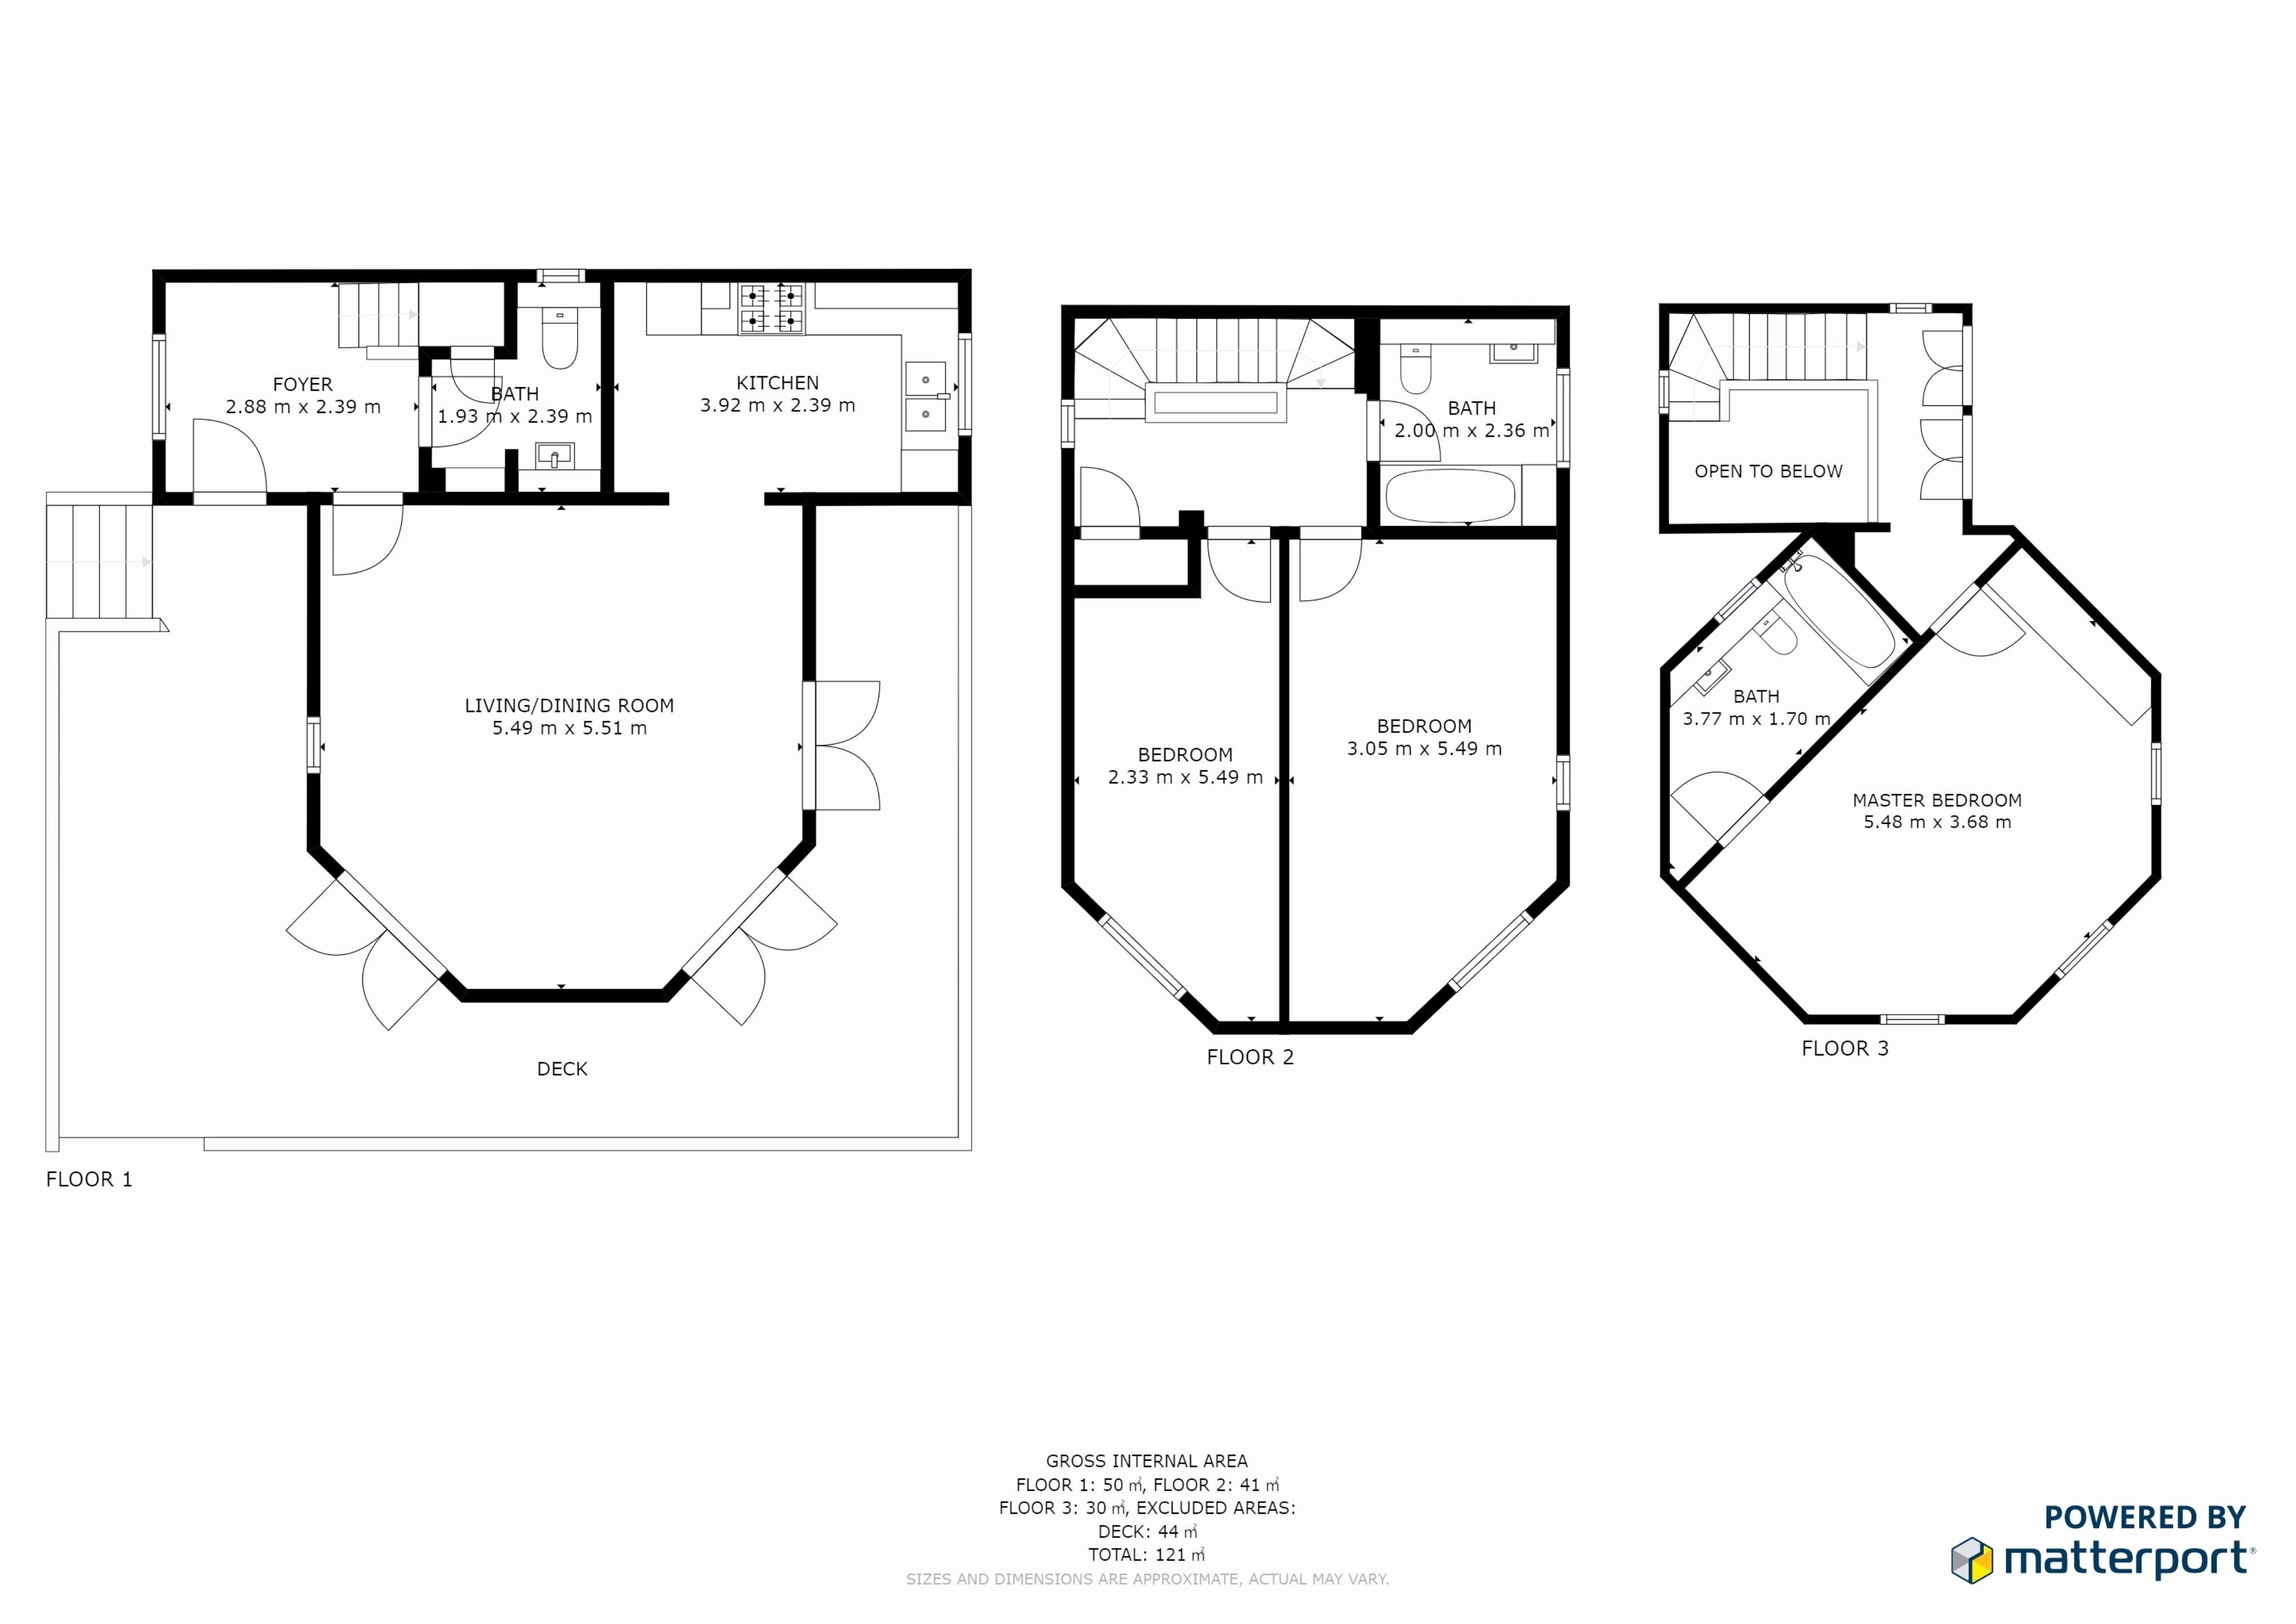door: (267, 893, 415, 1039), (703, 895, 848, 1040), (820, 677, 892, 814), (1948, 612, 2025, 685), (190, 415, 271, 485), (330, 510, 404, 584), (441, 373, 506, 452), (1209, 545, 1274, 620), (1671, 761, 1739, 824), (1295, 547, 1363, 606), (1913, 415, 1957, 503), (1388, 399, 1448, 462), (1080, 462, 1140, 524), (1918, 323, 1959, 408)
